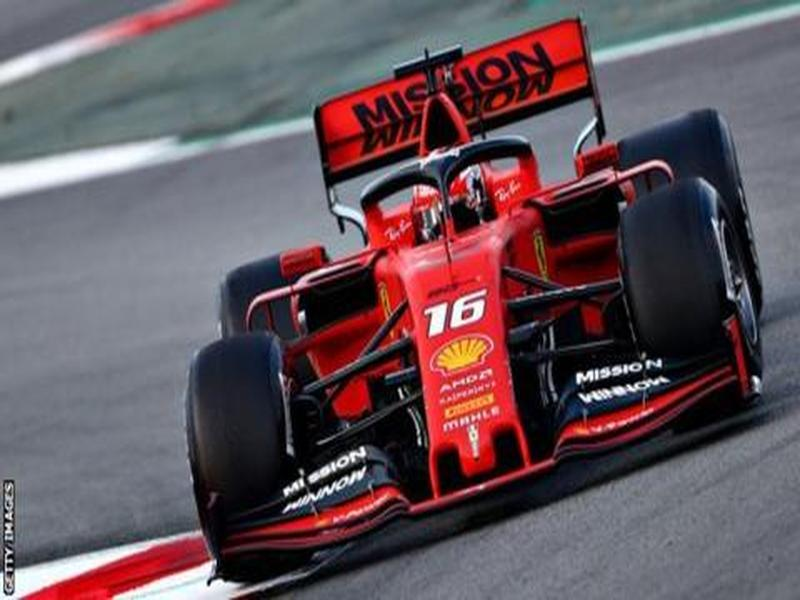f1: (175, 65, 800, 515)
